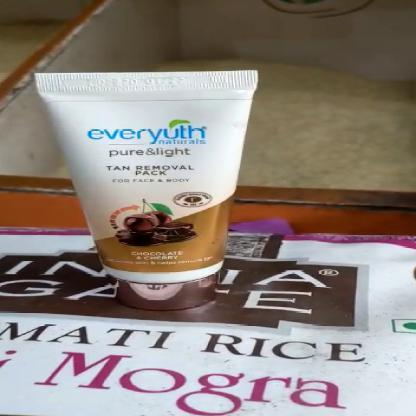EY TAN CHOCO CHERRY PACK 50G: (47, 74, 262, 311)
